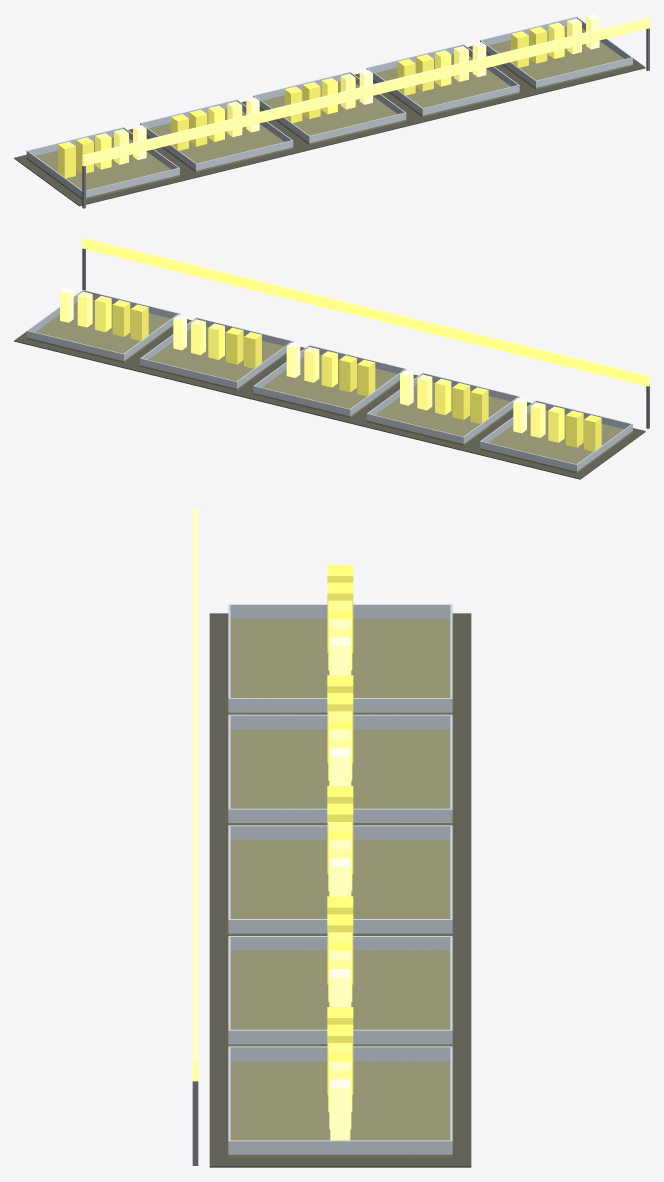
Rendered from pack-money-benefits-entitlements.glb.
3 views of the same model, one above another, from view 1: azimuth 30°, elevation 25°; view 2: azimuth 150°, elevation 25°; view 3: azimuth 270°, elevation 25° (orthographic). The views are drawn at different scales.
Parts seen in each view (by area): view 1: Money, Benefits & Entitlements; view 2: Money, Benefits & Entitlements; view 3: Money, Benefits & Entitlements.
Part boxes in pixels (x1,y1,x2,y2): Money, Benefits & Entitlements: [14, 14, 649, 208]; Money, Benefits & Entitlements: [14, 237, 649, 479]; Money, Benefits & Entitlements: [192, 508, 471, 1167].
Bounding box in the file's own units: 70 × 6.3 × 14.9.
